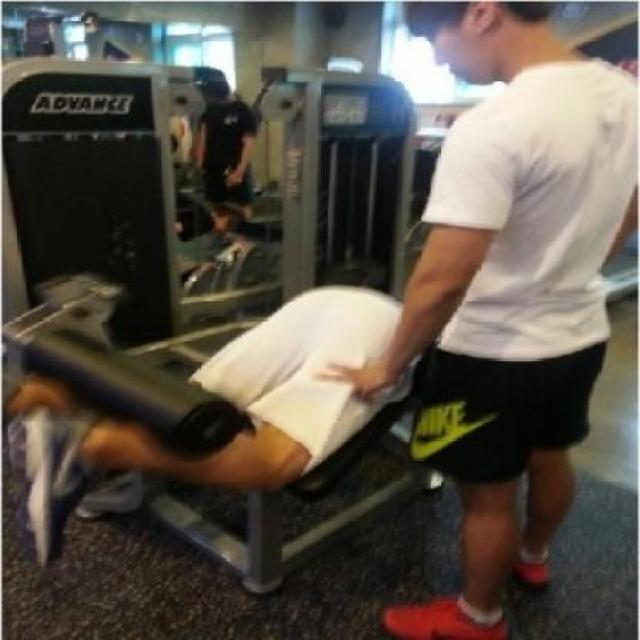leg extension: (0, 275, 452, 601)
